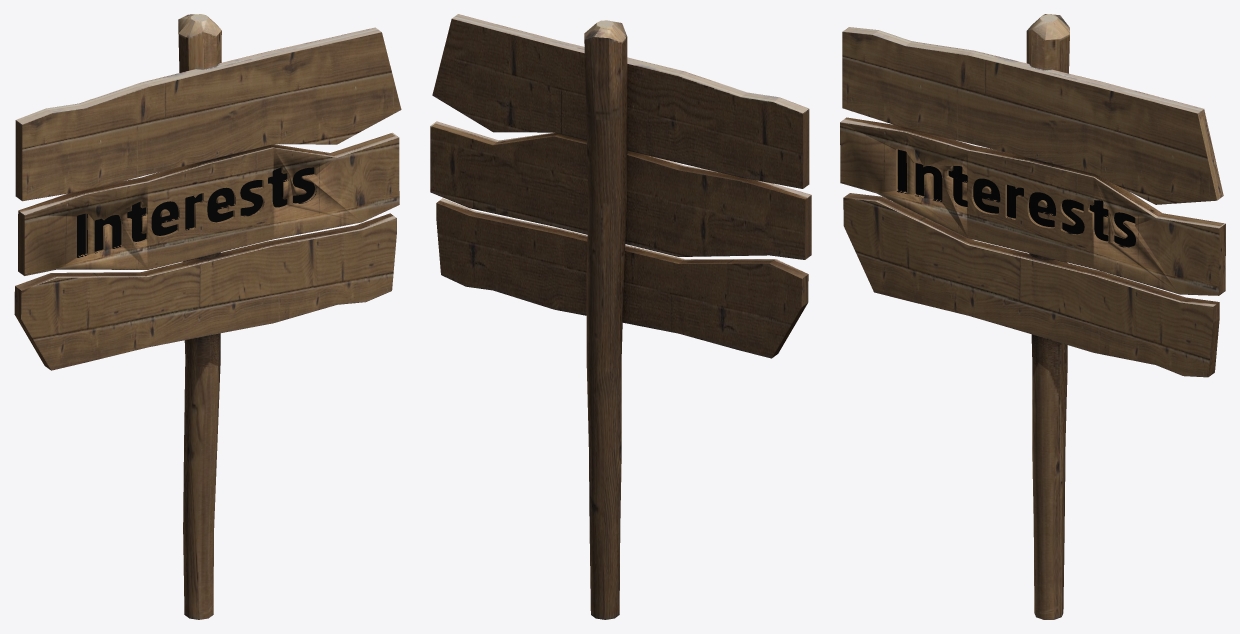
File: signpost.glb
3 views of the same model, side by side, from view 1: azimuth 30°, elevation 25°; view 2: azimuth 150°, elevation 25°; view 3: azimuth 330°, elevation 25° (orthographic).
Parts seen in each view (by area): view 1: Sign_3_post_Baked_0; view 2: Sign_3_post_Baked_0; view 3: Sign_3_post_Baked_0.
Boxes of the visible parts, box(x1,y1,x2,y2) form: Sign_3_post_Baked_0: box(14, 14, 401, 619); Sign_3_post_Baked_0: box(430, 14, 811, 619); Sign_3_post_Baked_0: box(840, 14, 1225, 619).
Bounding box in the file's own units: 2 × 3.02 × 0.2602.
Materials: 1 (1 with a texture image).
